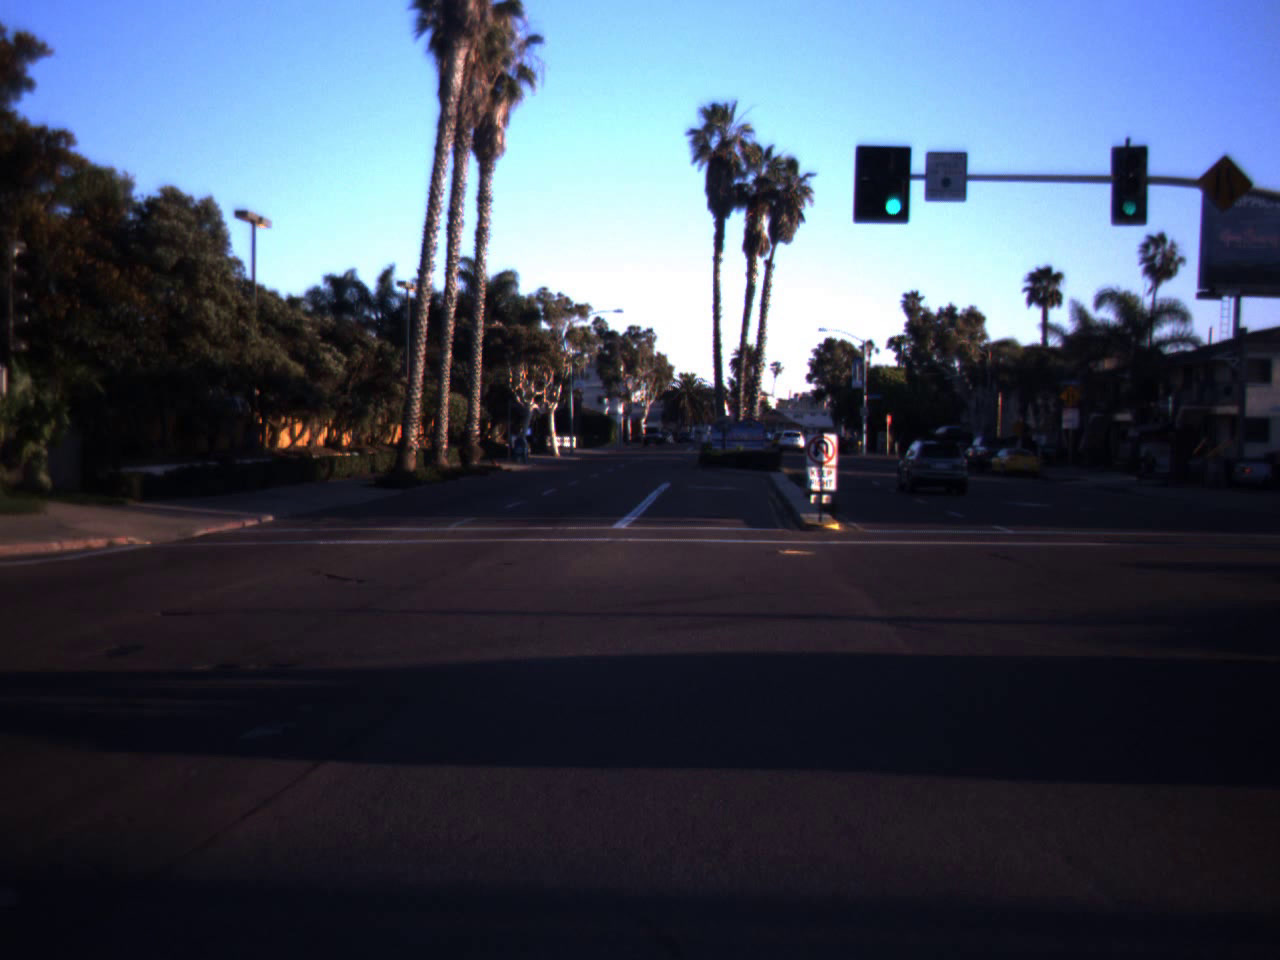go: (874, 146, 910, 221), (1116, 165, 1146, 220)
